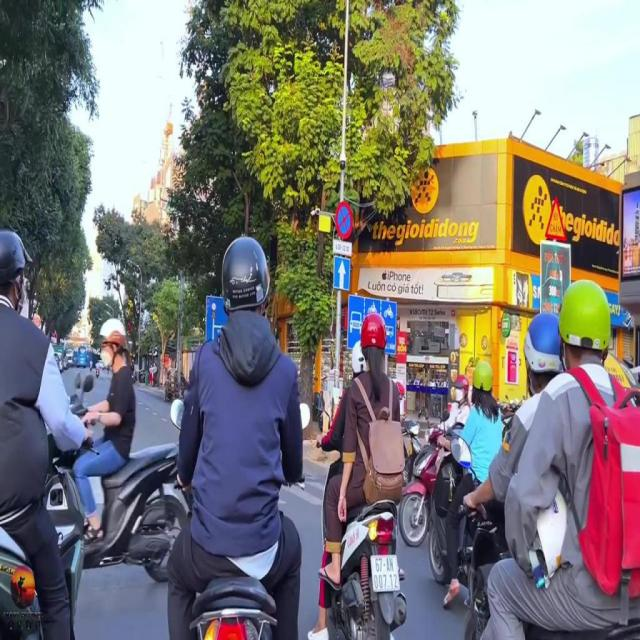cam_dung_xe_va_do_xe: (335, 202, 353, 238)
di_cham: (545, 197, 567, 243)
duong_mot_chieu: (334, 257, 350, 289)
khac: (207, 297, 230, 341), (334, 240, 352, 256)
lan_duong_cho_tung_xe_theo_vach_ke_duong: (347, 295, 397, 355)
